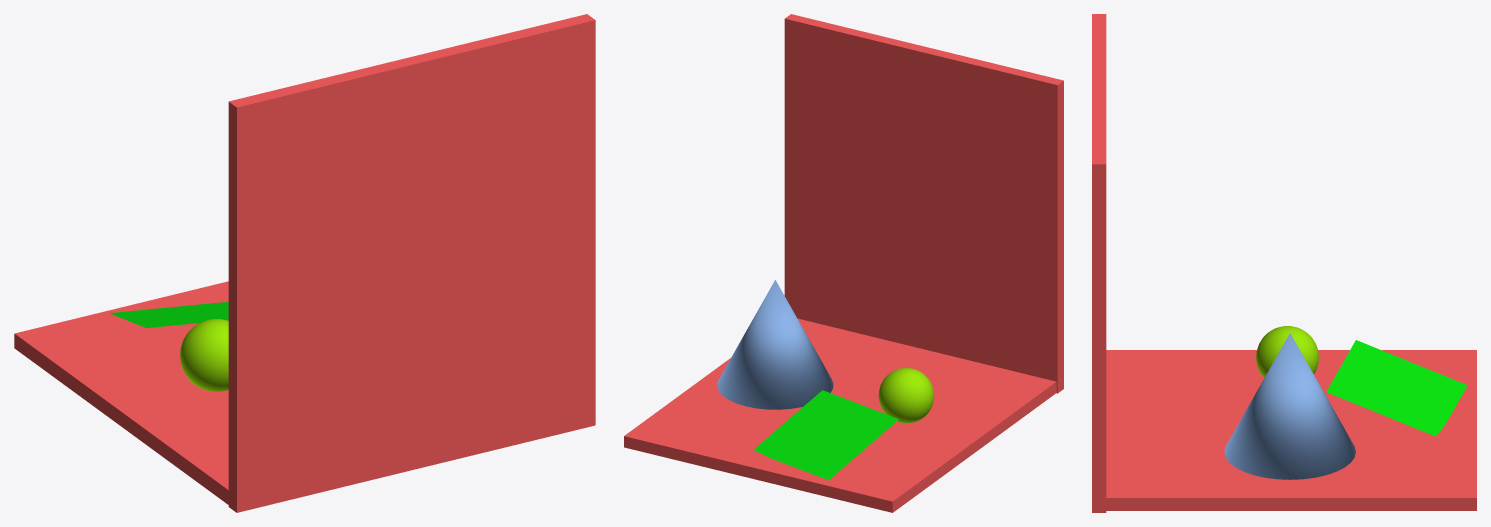
The model's file is NewSceneTest.fbx.
3 renders of one model, left to right at view 1: azimuth 30°, elevation 25°; view 2: azimuth 150°, elevation 25°; view 3: azimuth 270°, elevation 25°, orthographic. The views are drawn at different scales.
Parts seen in each view (by area): view 1: Cube, Cube.001, Sphere, Plane; view 2: Cube, Cube.001, Cone, Plane, Sphere; view 3: Cube.001, Cone, Cube, Plane, Sphere.
Boxes of the visible parts, x1,y1,x2,y2 form: Cube: [228, 14, 595, 512]; Cube.001: [14, 281, 228, 504]; Sphere: [180, 319, 228, 391]; Plane: [109, 302, 228, 328]; Cube: [784, 14, 1063, 393]; Cube.001: [624, 318, 1056, 512]; Cone: [717, 280, 833, 409]; Plane: [754, 390, 898, 480]; Sphere: [878, 368, 934, 423]; Cube.001: [1106, 350, 1476, 510]; Cone: [1224, 333, 1355, 479]; Cube: [1092, 14, 1106, 512]; Plane: [1326, 340, 1467, 436]; Sphere: [1256, 326, 1318, 377].
Size of the model in its own units: 5042 by 5446 by 5449.
